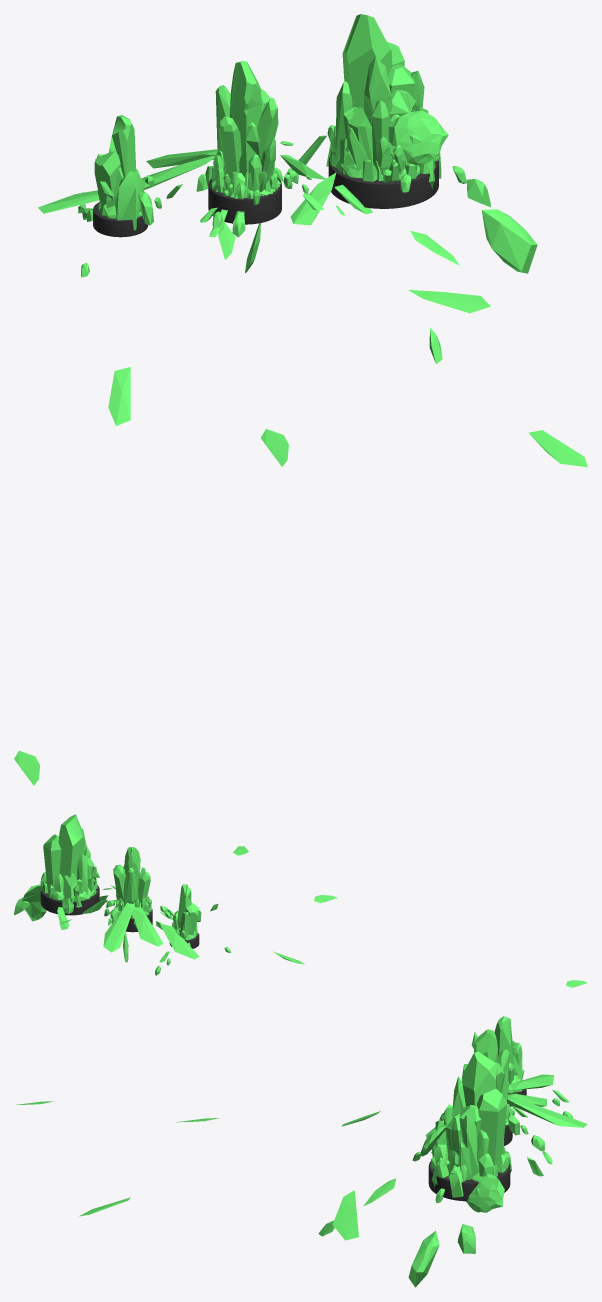
File: crystals.fbx
The picture shows the model from 3 angles, top to bottom: view 1: azimuth 30°, elevation 25°; view 2: azimuth 150°, elevation 25°; view 3: azimuth 270°, elevation 25°; orthographic projection. The views are drawn at different scales.
Visible parts, largest first — view 1: 3DSMeshMatrix.003, 3DSMeshMatrix.001, 3DSMeshMatrix.011, 3DSMeshMatrix.012, 3DSMeshMatrix.076, 3DSMeshMatrix.075, 3DSMeshMatrix.061, 3DSMeshMatrix.054, 3DSMeshMatrix.063, 3DSMeshMatrix.140, 3DSMeshMatrix.185, 3DSMeshMatrix.187 (+1 smaller); view 2: 3DSMeshMatrix.003, 3DSMeshMatrix.059, 3DSMeshMatrix.052, 3DSMeshMatrix.001, 3DSMeshMatrix.057, 3DSMeshMatrix.058, 3DSMeshMatrix.074, 3DSMeshMatrix.076, 3DSMeshMatrix.061, 3DSMeshMatrix.051, 3DSMeshMatrix.179, 3DSMeshMatrix.046 (+4 smaller); view 3: 3DSMeshMatrix.052, 3DSMeshMatrix.003, 3DSMeshMatrix.010, 3DSMeshMatrix.001, 3DSMeshMatrix.011, 3DSMeshMatrix.187, 3DSMeshMatrix.059, 3DSMeshMatrix.009, 3DSMeshMatrix.061, 3DSMeshMatrix.076, 3DSMeshMatrix.058, 3DSMeshMatrix.008 (+3 smaller).
Boxes of the visible parts, <box> form: 3DSMeshMatrix.003: <box>342,14,392,109</box>; 3DSMeshMatrix.001: <box>328,157,438,208</box>; 3DSMeshMatrix.011: <box>481,209,537,273</box>; 3DSMeshMatrix.012: <box>386,110,448,164</box>; 3DSMeshMatrix.076: <box>229,61,261,152</box>; 3DSMeshMatrix.075: <box>208,177,281,224</box>; 3DSMeshMatrix.061: <box>106,115,136,208</box>; 3DSMeshMatrix.054: <box>363,57,392,125</box>; 3DSMeshMatrix.063: <box>115,171,144,230</box>; 3DSMeshMatrix.140: <box>108,367,130,425</box>; 3DSMeshMatrix.185: <box>218,116,241,175</box>; 3DSMeshMatrix.187: <box>408,290,490,313</box>; 3DSMeshMatrix.003: <box>58,814,85,884</box>; 3DSMeshMatrix.059: <box>103,902,134,952</box>; 3DSMeshMatrix.052: <box>43,834,61,892</box>; 3DSMeshMatrix.001: <box>40,885,99,915</box>; 3DSMeshMatrix.057: <box>132,906,163,946</box>; 3DSMeshMatrix.058: <box>159,923,199,959</box>; 3DSMeshMatrix.074: <box>123,868,138,903</box>; 3DSMeshMatrix.076: <box>124,847,140,889</box>; 3DSMeshMatrix.061: <box>177,884,195,931</box>; 3DSMeshMatrix.051: <box>77,854,87,894</box>; 3DSMeshMatrix.179: <box>113,864,125,900</box>; 3DSMeshMatrix.046: <box>63,873,77,903</box>; 3DSMeshMatrix.052: <box>477,1088,506,1170</box>; 3DSMeshMatrix.003: <box>462,1051,496,1106</box>; 3DSMeshMatrix.010: <box>466,1172,504,1212</box>; 3DSMeshMatrix.001: <box>428,1161,510,1201</box>; 3DSMeshMatrix.011: <box>408,1230,439,1287</box>; 3DSMeshMatrix.187: <box>332,1190,358,1240</box>; 3DSMeshMatrix.059: <box>506,1097,587,1127</box>; 3DSMeshMatrix.009: <box>461,1115,478,1176</box>; 3DSMeshMatrix.061: <box>494,1016,513,1064</box>; 3DSMeshMatrix.076: <box>474,1029,497,1062</box>; 3DSMeshMatrix.058: <box>509,1074,553,1090</box>; 3DSMeshMatrix.008: <box>457,1224,475,1253</box>.
Size of the model in its own units: 1918 by 910 by 1662.
